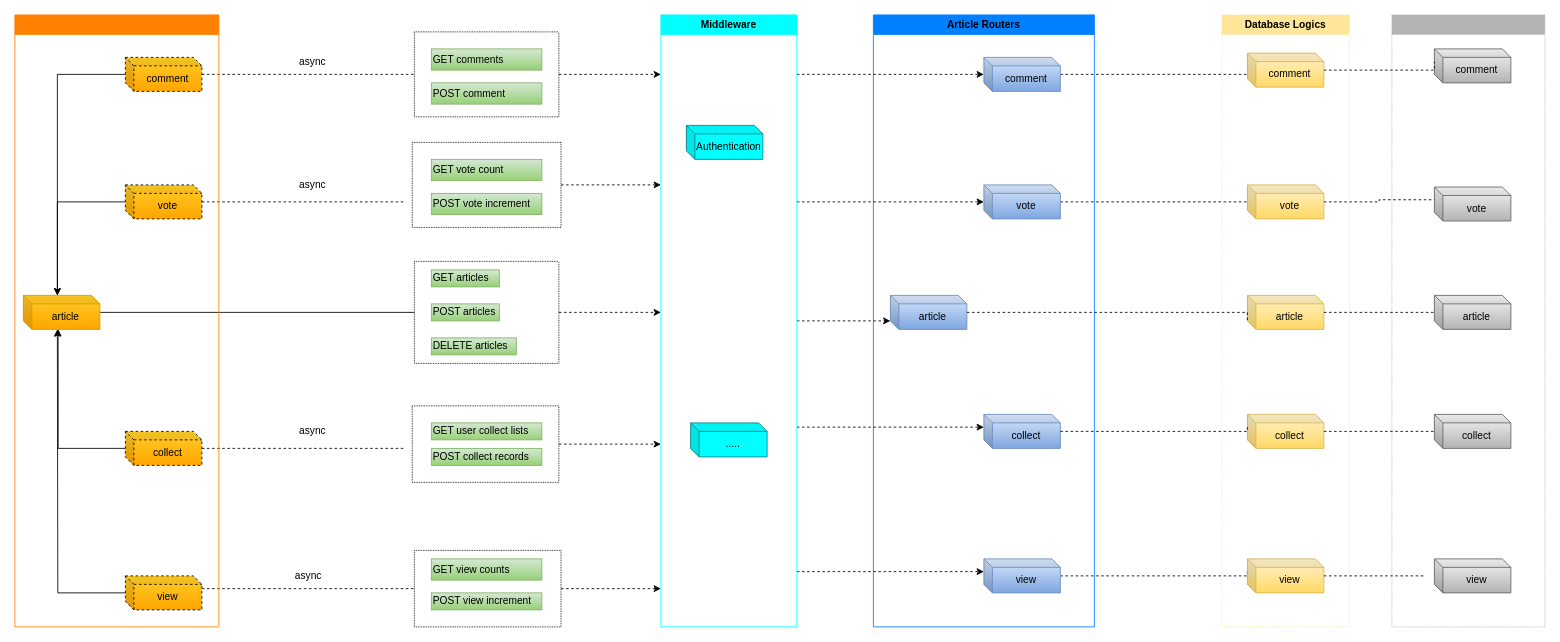
The diagram is 1560 pixels wide and 642 high, and some of its shapes have lost their labels. Each missing label, with the centre of its shape:
"Article Components" goes at point 116,320.
"Database Models" goes at point 1468,320.
